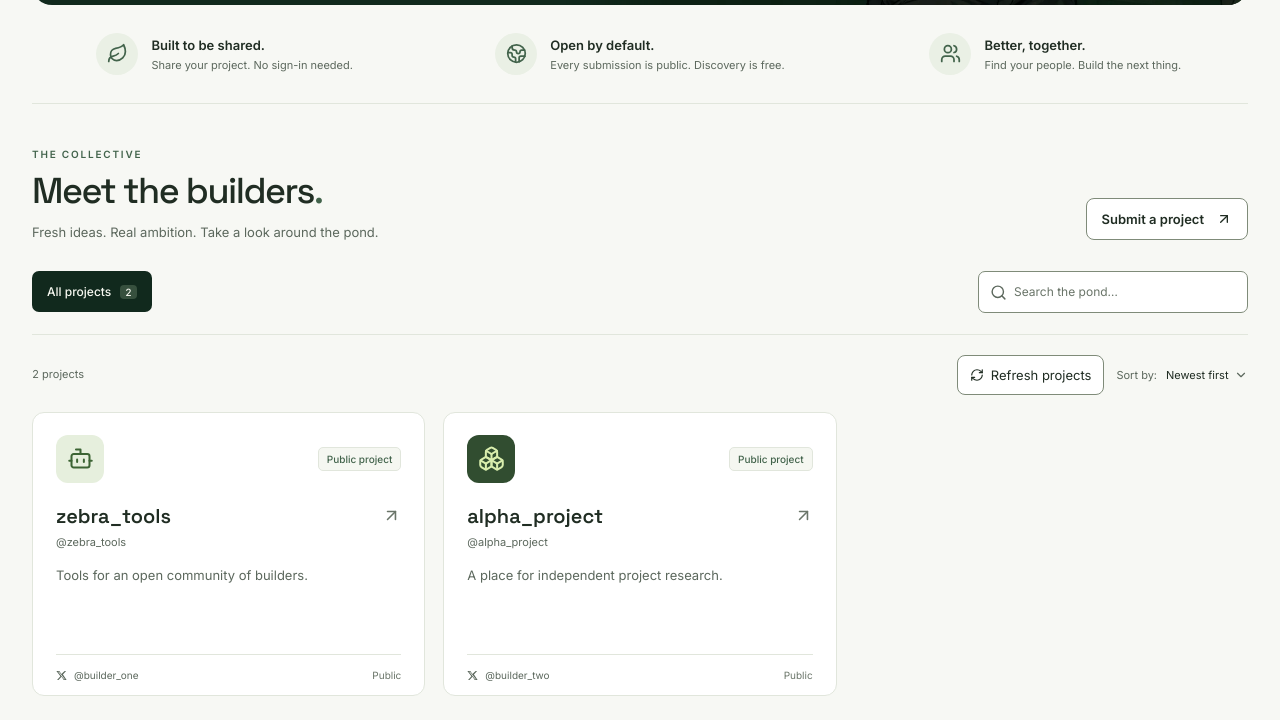
public project directory › keeps previously loaded projects visible when refresh fails, then recovers
The image size is (1280, 720).
(page scrolled)
Expected: the button "zebra_tools" is shown, [56,501,401,531]
Click the button "Refresh projects".
click(1031, 375)  # box [957,355,1104,395]
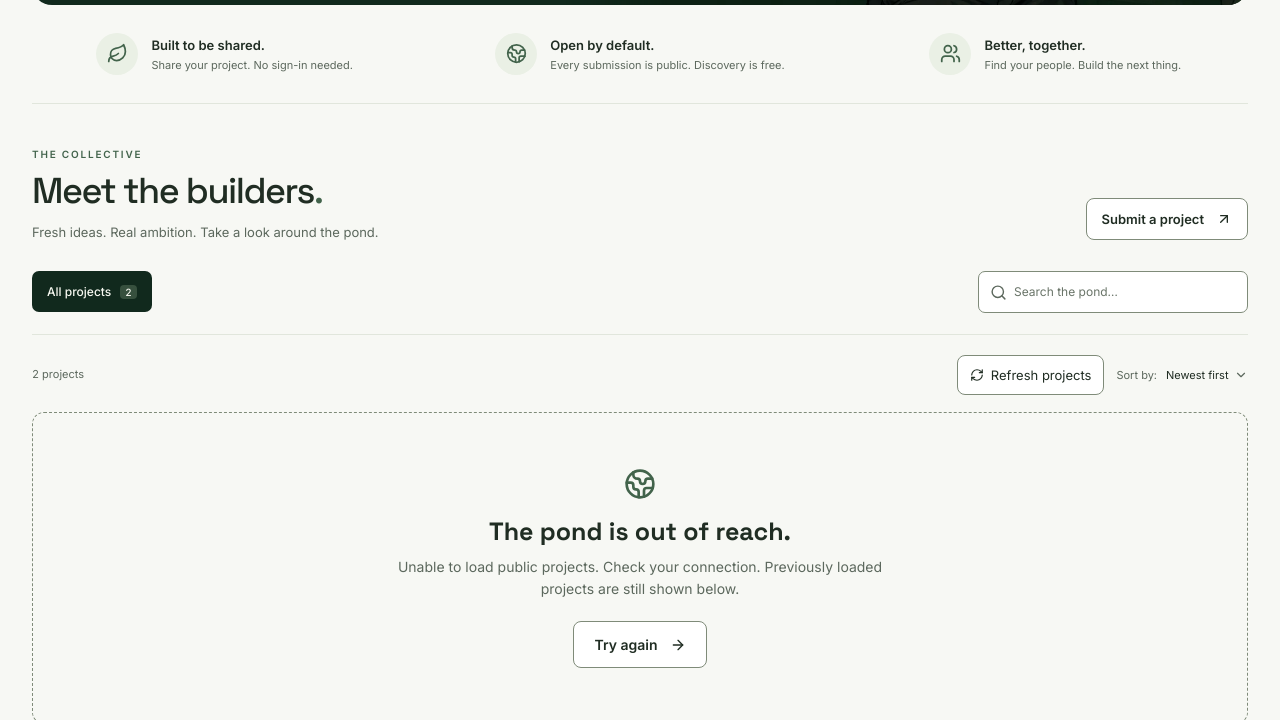
Now the message that starts with "The pond is out of reach." shows "Previously loaded projects are still shown", box [541,558,882,597]
Click the button "Try again".
click(640, 644)  # box [574,621,707,668]
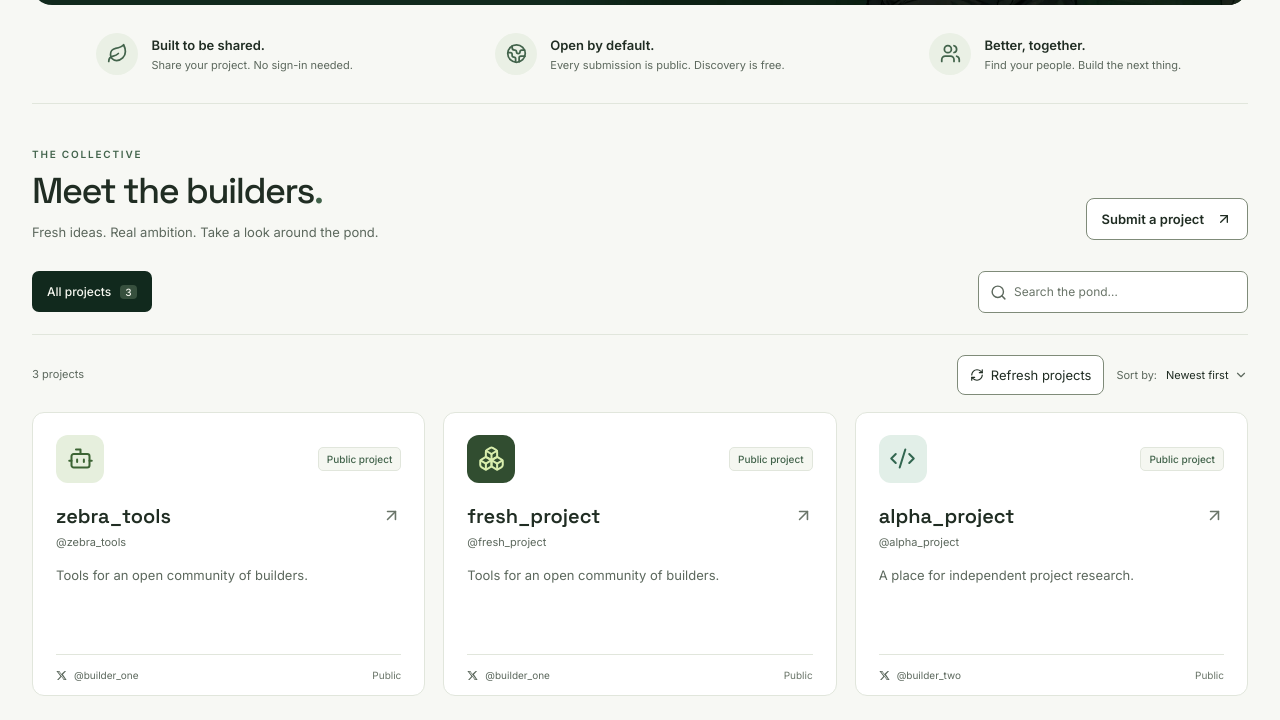
Now the button "fresh_project" is shown, box [467,501,813,531]
